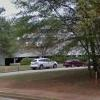Tree: (15, 2, 100, 62)
